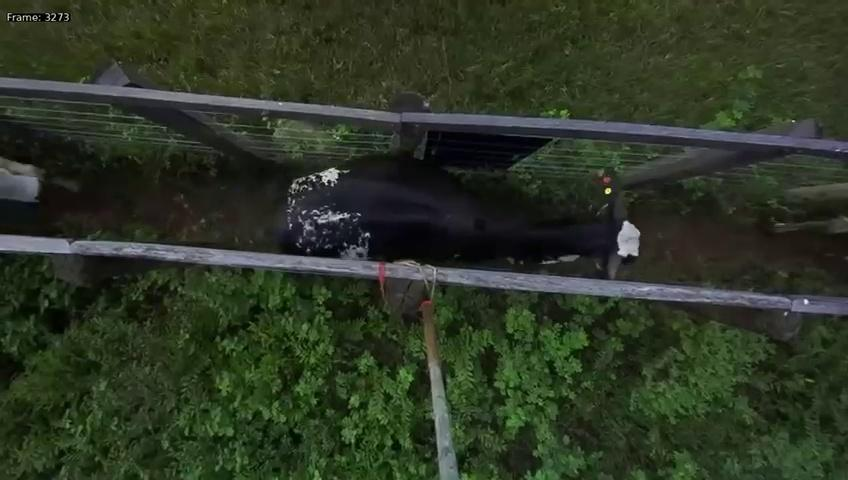cattle: (275, 144, 645, 280)
